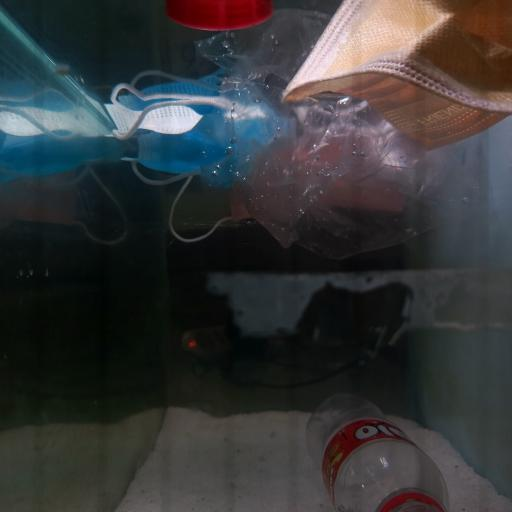bottle_cap: (162, 2, 280, 32)
mask: (282, 6, 512, 149), (106, 76, 306, 191)
plastic_bag: (200, 4, 470, 260)
plastic_bottle: (308, 393, 453, 512)
